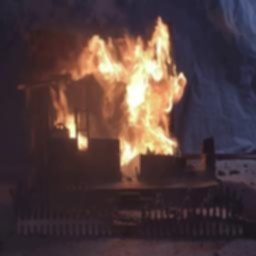fire: (44, 4, 185, 159)
